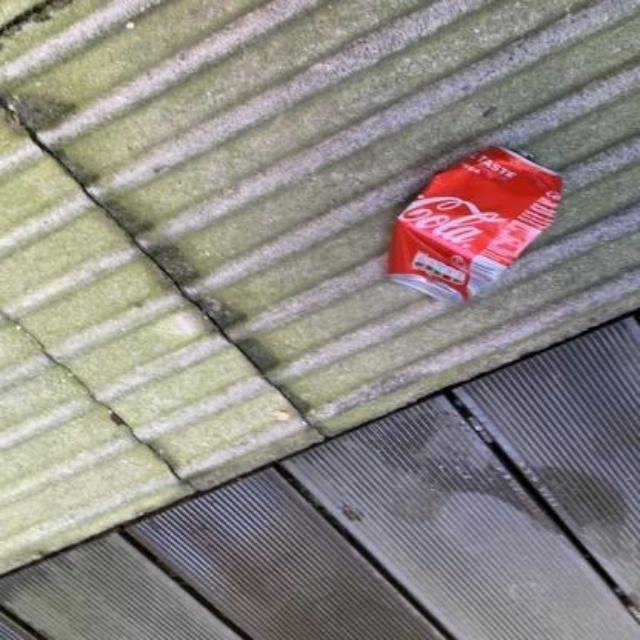trash: (388, 148, 562, 300)
